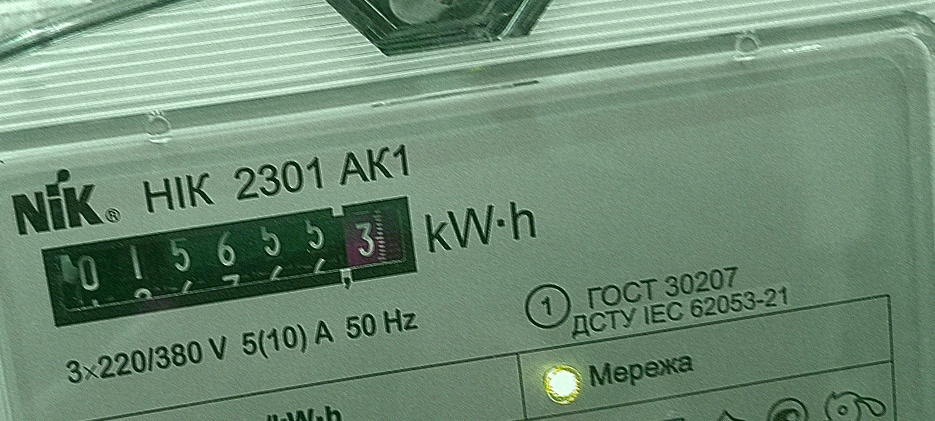0: (70, 251, 101, 296)
1: (122, 244, 146, 285)
3: (350, 221, 375, 260)
5: (163, 237, 192, 276), (255, 225, 283, 260), (302, 218, 325, 253)
6: (210, 231, 238, 270)
screen: (23, 177, 433, 347)
